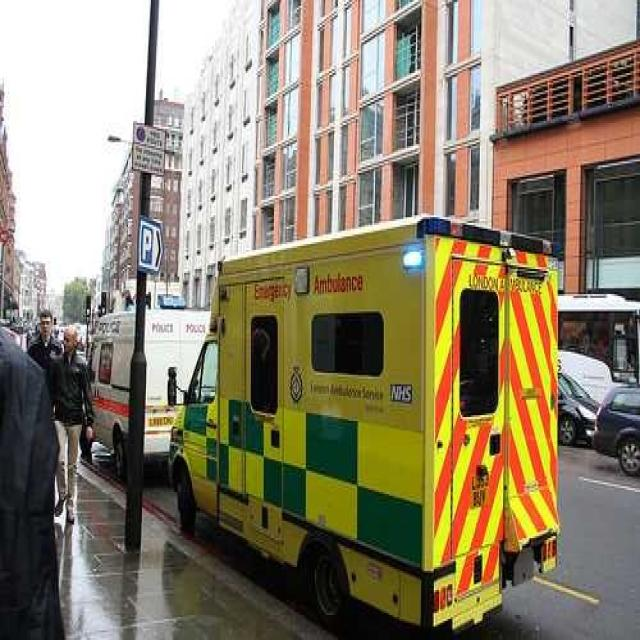ambulance: (172, 227, 576, 633)
